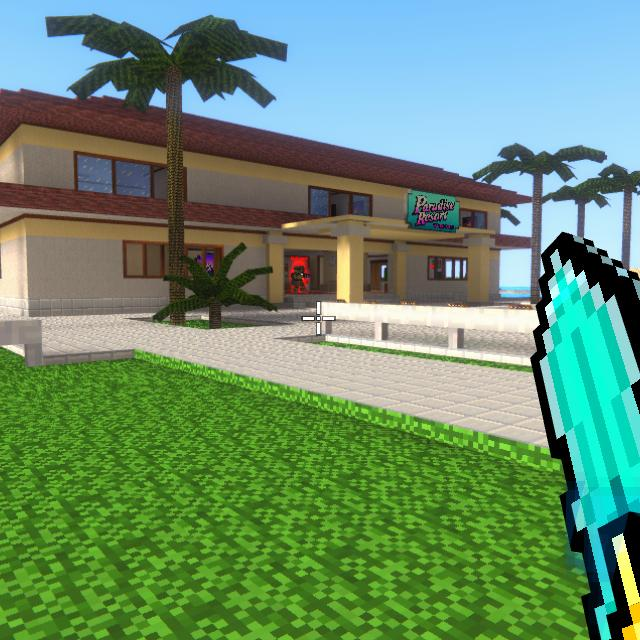Enemy: (289, 266, 308, 294)
